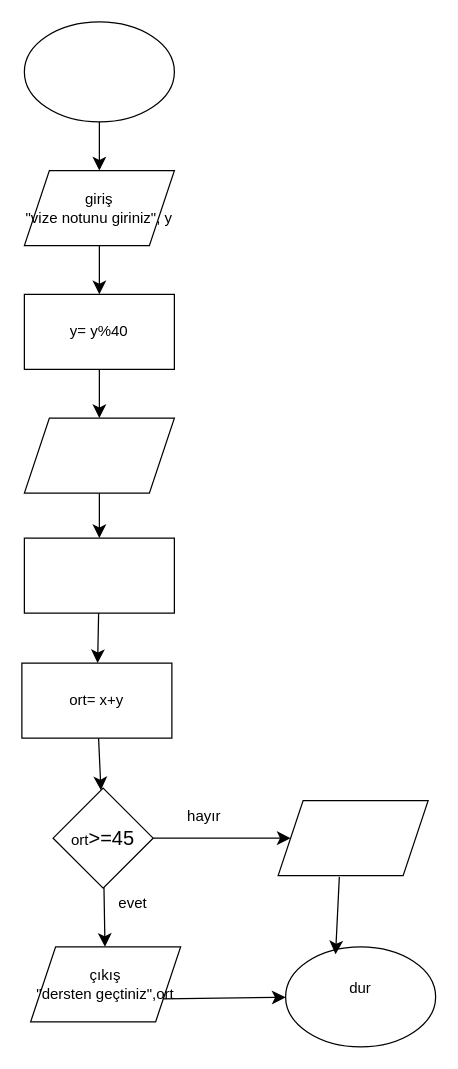
This 458x1069 diagram has some shape labels left out. Each missing label, with the centre of its shape:
başla: the point at 98,71
giriş "final notunu giriniz", x: the point at 98,455
x = x%60: the point at 98,575
